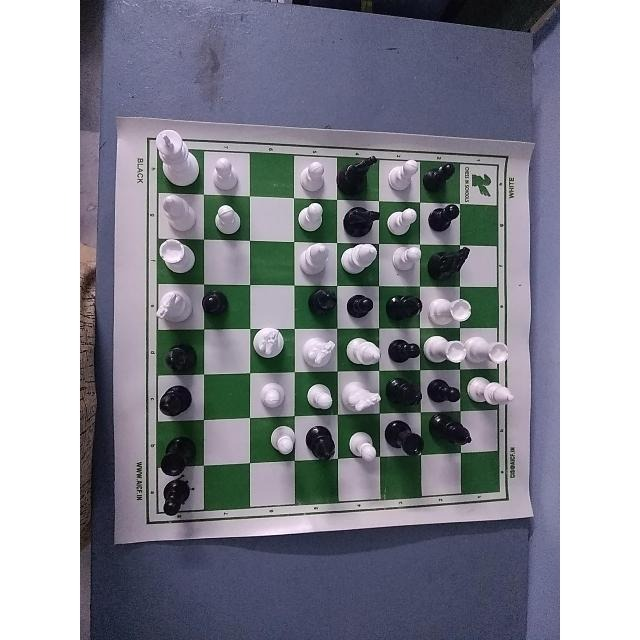black-bishop: (432, 410, 476, 461), (144, 378, 199, 418), (425, 242, 476, 280), (296, 280, 340, 324), (304, 423, 337, 470), (389, 285, 425, 327), (162, 336, 194, 378), (386, 378, 422, 413)
black-knight: (342, 195, 384, 235), (345, 147, 381, 187)
black-pawn: (155, 480, 200, 530), (198, 279, 245, 322), (424, 148, 462, 198), (385, 332, 421, 375), (430, 376, 466, 410), (346, 290, 380, 324), (423, 203, 458, 235)
black-rook: (153, 436, 197, 480), (385, 421, 425, 469)
white-bishop: (153, 187, 201, 231), (341, 241, 385, 279), (344, 329, 384, 370), (466, 376, 517, 408), (299, 241, 337, 279)
white-king: (151, 121, 201, 191)
white-knight: (243, 318, 294, 365), (148, 287, 195, 329), (343, 373, 383, 413), (296, 330, 338, 366)
white-pawn: (258, 420, 298, 468), (291, 150, 331, 197), (300, 370, 339, 417), (381, 151, 423, 192), (290, 199, 337, 234), (348, 422, 380, 468), (209, 198, 248, 235), (257, 376, 290, 415), (210, 151, 237, 194), (391, 240, 423, 274), (389, 204, 419, 238)
white-rook: (429, 287, 472, 326), (471, 330, 510, 372), (154, 237, 194, 271), (426, 332, 468, 364)
